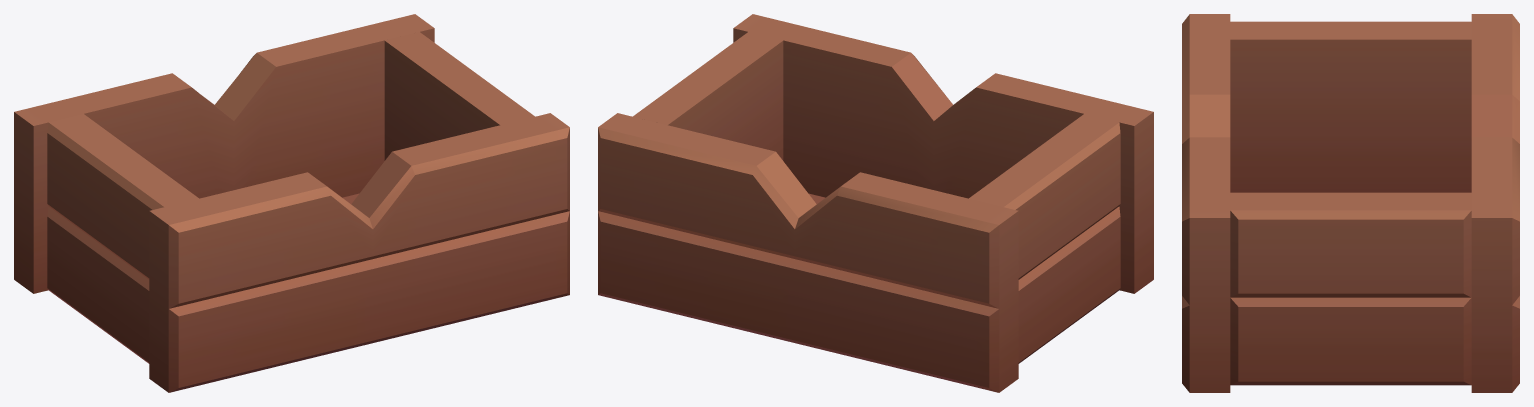
The model's file is crate_large.glb.
The picture shows the model from 3 angles, left to right: view 1: azimuth 30°, elevation 25°; view 2: azimuth 150°, elevation 25°; view 3: azimuth 270°, elevation 25°; orthographic projection. The views are drawn at different scales.
Parts seen in each view (by area): view 1: crate_large; view 2: crate_large; view 3: crate_large.
Boxes of the visible parts, x1,y1,x2,y2 form: crate_large: (14,14,569,392); crate_large: (598,14,1153,392); crate_large: (1182,14,1519,392).
Bounding box in the file's own units: 2 × 0.7999 × 1.4.
1 material, 1 textured.
